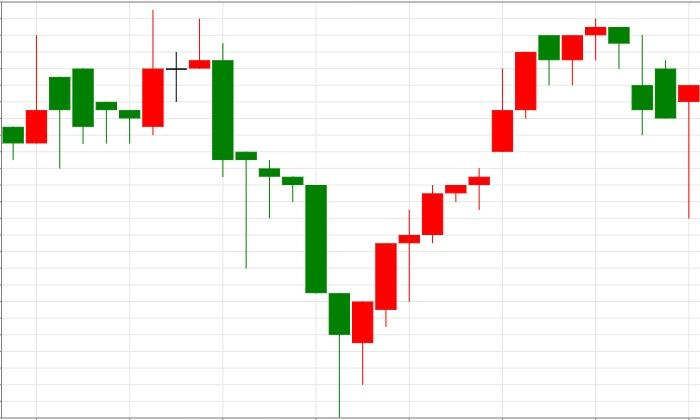hammer_rise: (188, 19, 351, 418)
